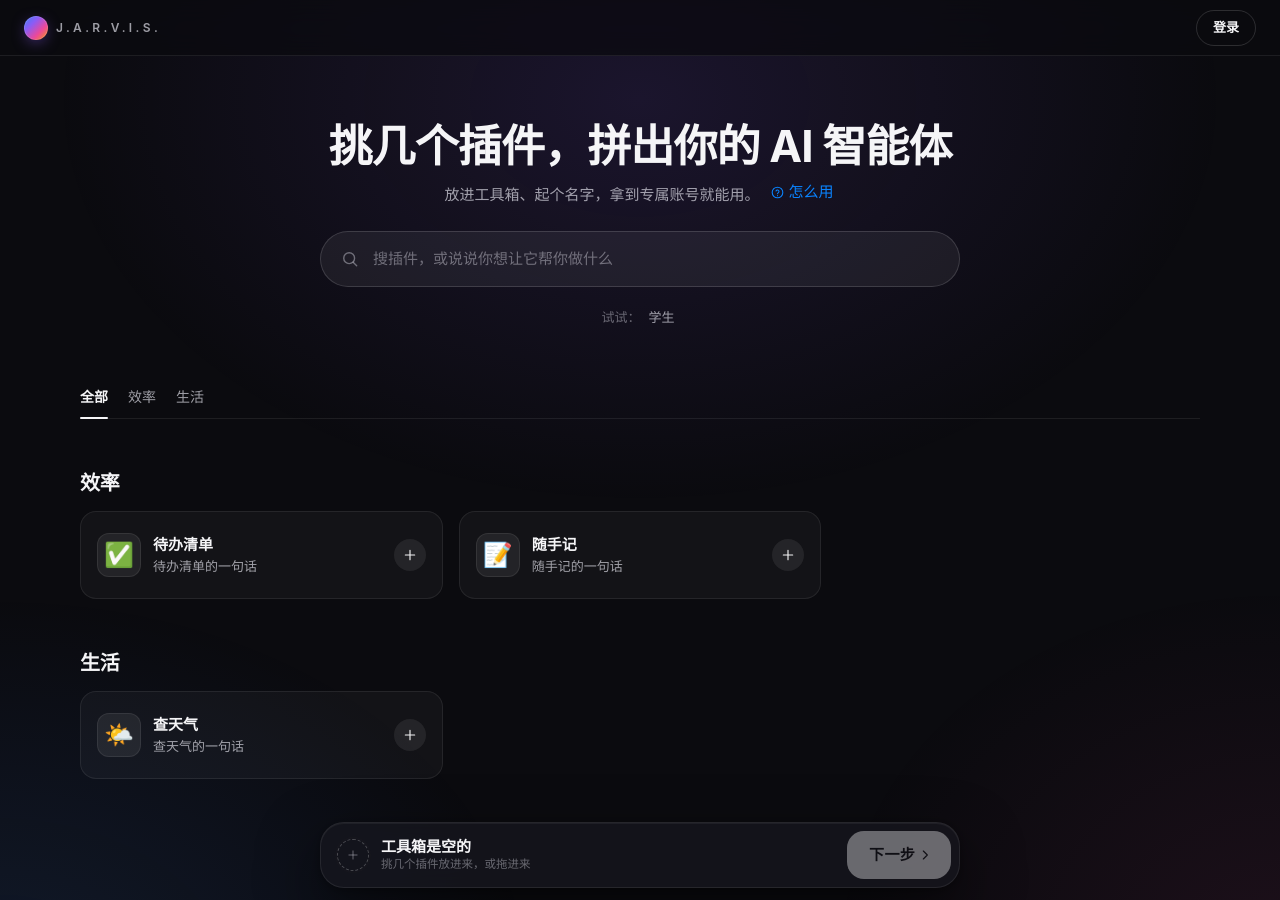
Test: 市场 › 首屏「怎么用」随时重看（游客也能点）
This screenshot has width=1280, height=900.
Check: the element "待办清单" is shown, box left=80, top=510, right=443, bottom=598
Click the button "怎么用" at x=802, y=192, box left=768, top=180, right=836, bottom=204
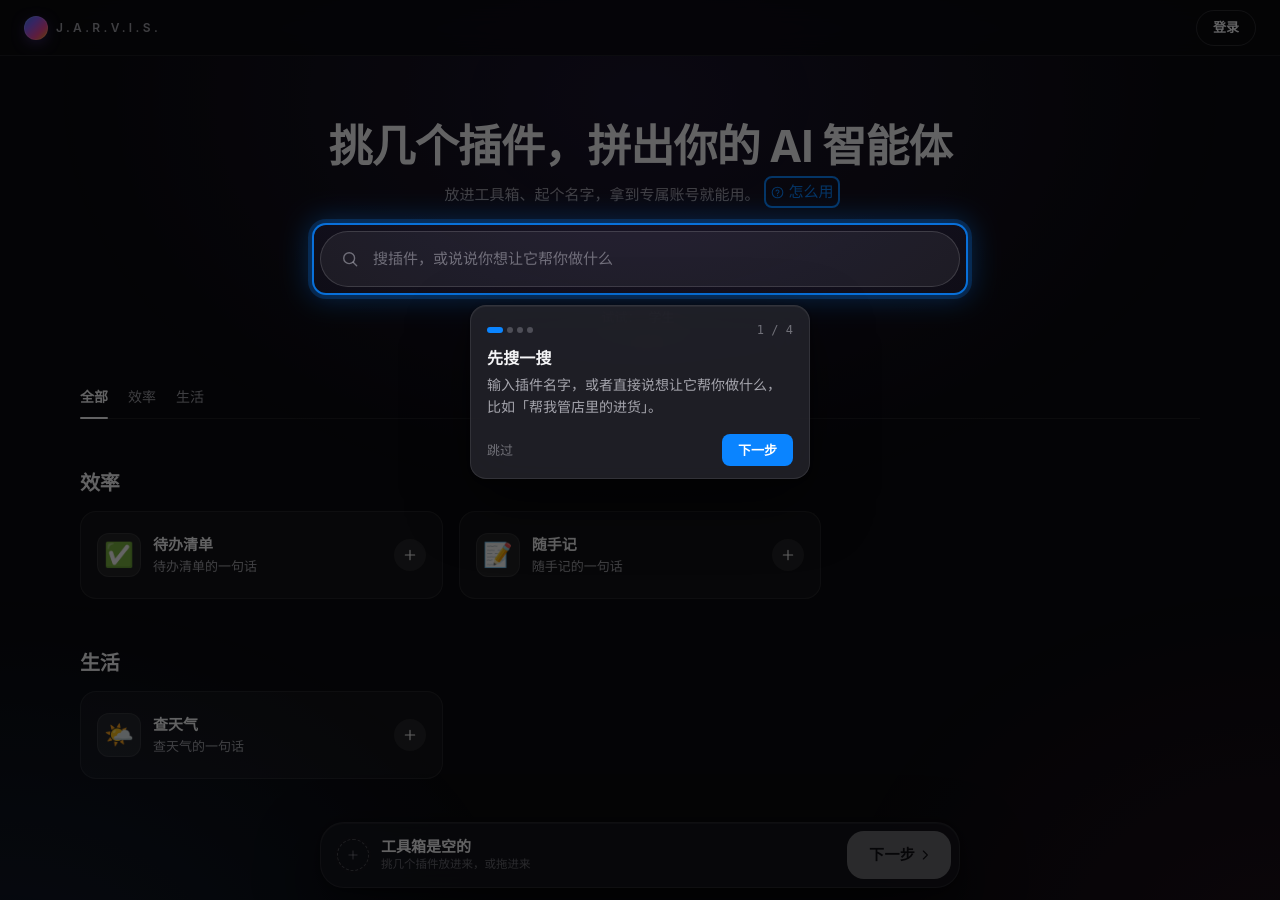
Check: the heading with class "jv-tour-title" reads "先搜一搜", box left=487, top=348, right=552, bottom=368
